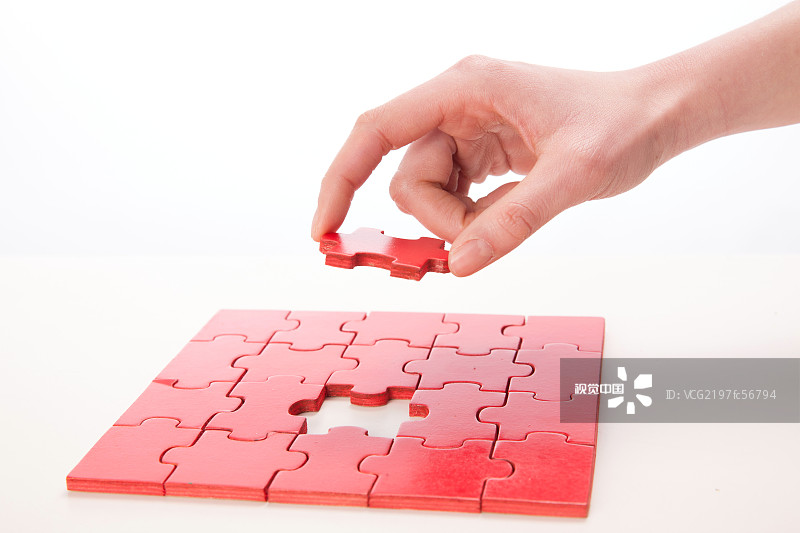no-phone: (295, 37, 689, 291)
